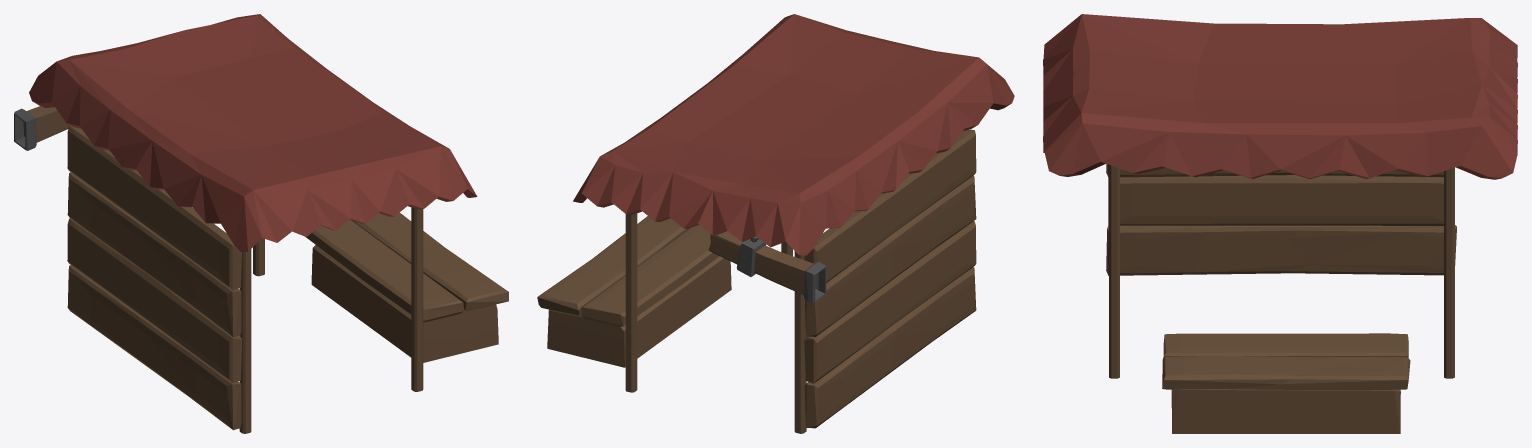
Rendered from botcher shop.fbx.
3 renders of one model, left to right at view 1: azimuth 30°, elevation 25°; view 2: azimuth 150°, elevation 25°; view 3: azimuth 270°, elevation 25°, orthographic. The views are drawn at different scales.
Parts seen in each view (by area): view 1: botcher market; view 2: botcher market; view 3: botcher market.
Boxes of the visible parts, bbox=[...] form: botcher market: bbox=[14, 14, 508, 433]; botcher market: bbox=[537, 14, 1014, 433]; botcher market: bbox=[1043, 14, 1517, 433].
Bounding box in the file's own units: 272 × 201 × 320.
